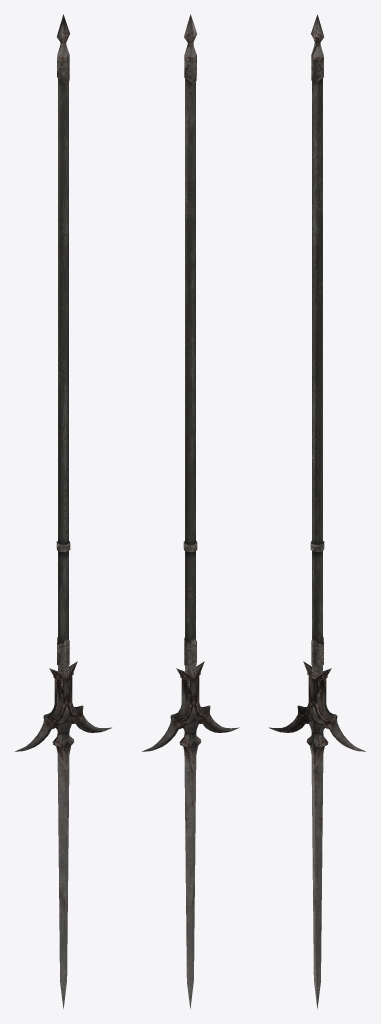
3 views of the same model, side by side, from view 1: azimuth 30°, elevation 25°; view 2: azimuth 210°, elevation 25°; view 3: azimuth 330°, elevation 25° (orthographic).
Parts seen in each view (by area): view 1: mesh0; view 2: mesh0; view 3: mesh0.
Part boxes in pixels (left/top/right/bottom): mesh0: left=15, top=14, right=111, bottom=1008; mesh0: left=142, top=14, right=239, bottom=1008; mesh0: left=269, top=14, right=365, bottom=1008.
Bounding box in the file's own units: 31.83 × 307 × 4.65.
